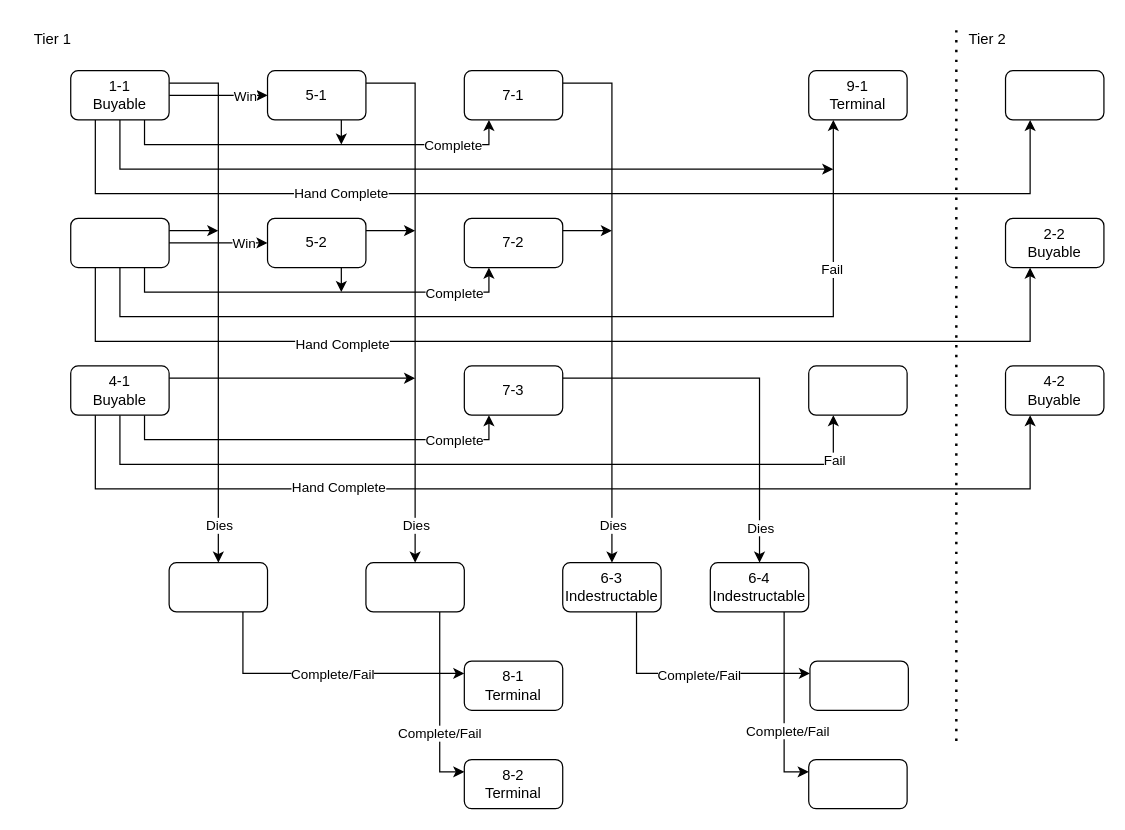
This 1125x830 diagram has some shape labels left out. The shapes that lost their labels are listed below. From the top down, each one's centre as x and y in pixels, then its label:
At point 1054,94: "1-2 Buyable".
At point 119,242: "2-1 Buyable".
At point 857,390: "9-2 Terminal".
At point 218,586: "6-1 Indestructable".
At point 414,586: "6-2 Indestructable".
At point 858,685: "8-3 Terminal".
At point 857,783: "8-4 Terminal".
